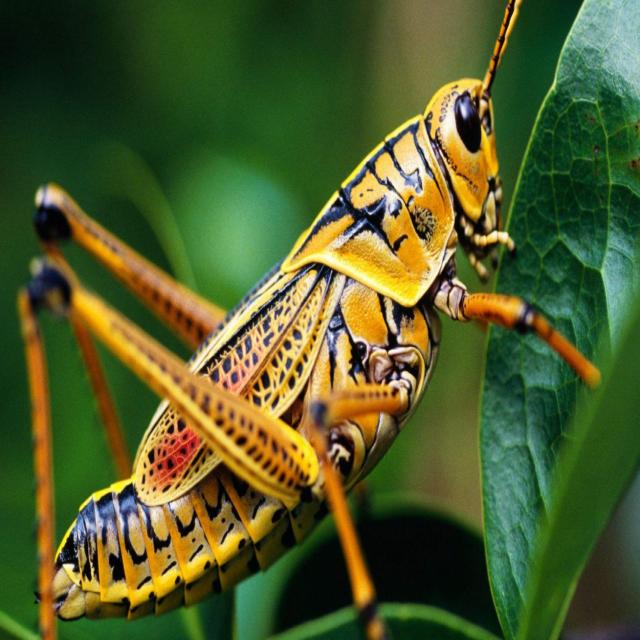ZhaMeng: (29, 41, 587, 625)
